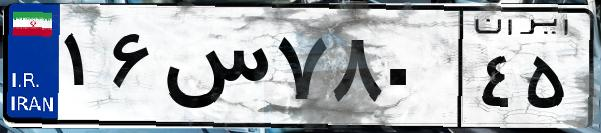0: (385, 28, 445, 110)
1: (57, 26, 110, 100)
4: (475, 38, 525, 113)
5: (525, 38, 570, 115)
6: (110, 28, 158, 98)
7: (270, 28, 330, 110)
8: (330, 28, 385, 110)
س: (158, 20, 270, 120)
